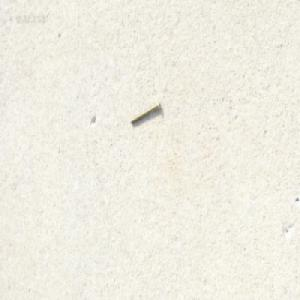Bolt: (129, 100, 160, 126)
